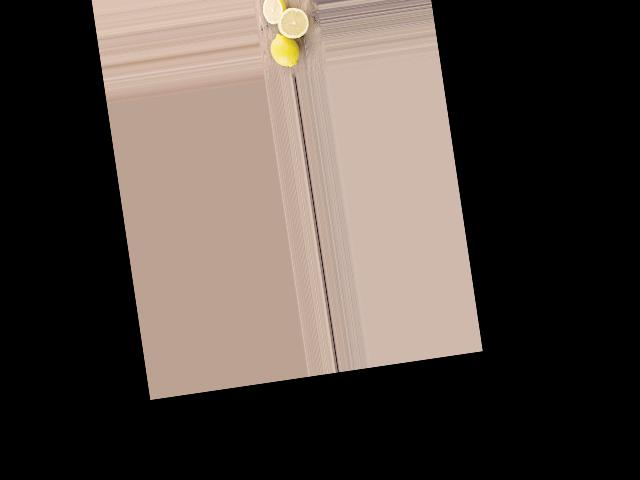lemon: (264, 30, 302, 68)
